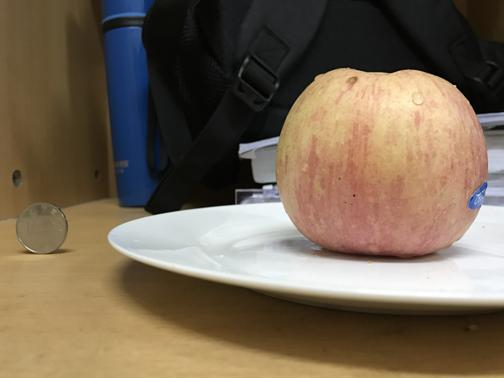apple: (275, 59, 487, 257)
coin: (13, 202, 67, 255)
